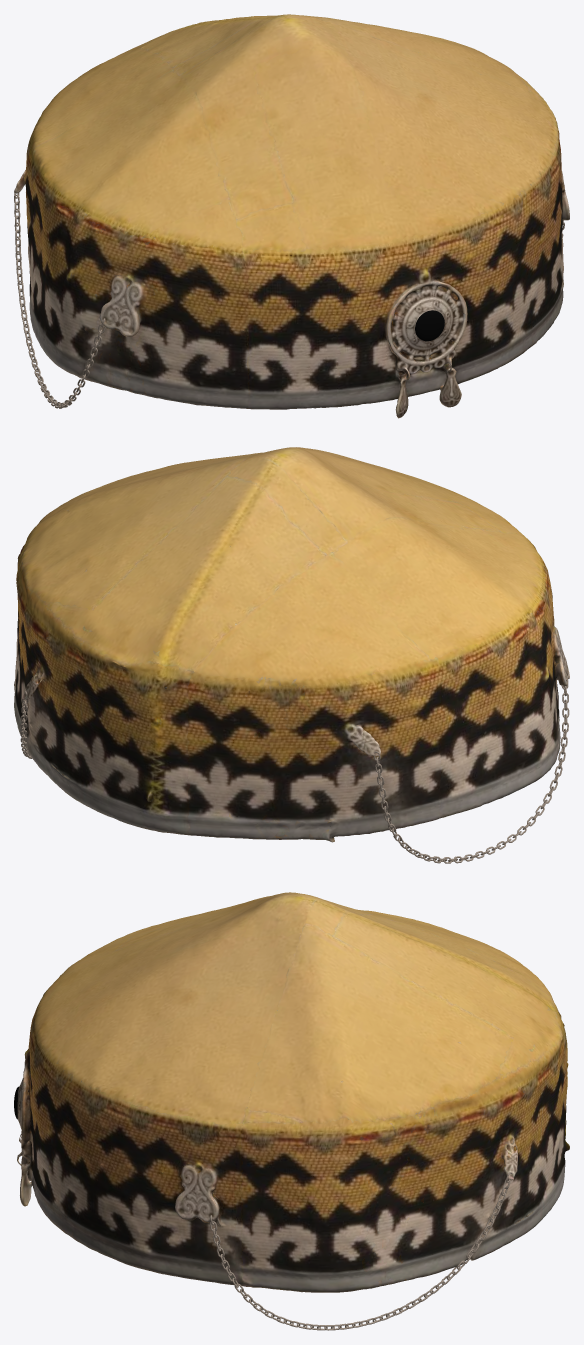
Rendered from taqiya_yellow_f_kazakh_traditional_headdress.glb.
The picture shows the model from 3 angles, top to bottom: view 1: azimuth 30°, elevation 25°; view 2: azimuth 150°, elevation 25°; view 3: azimuth 270°, elevation 25°; orthographic projection.
Size of what is drawn, in the model's own units: 25.62 by 16.6 by 24.98.
Materials: 4 (1 with a texture image).
